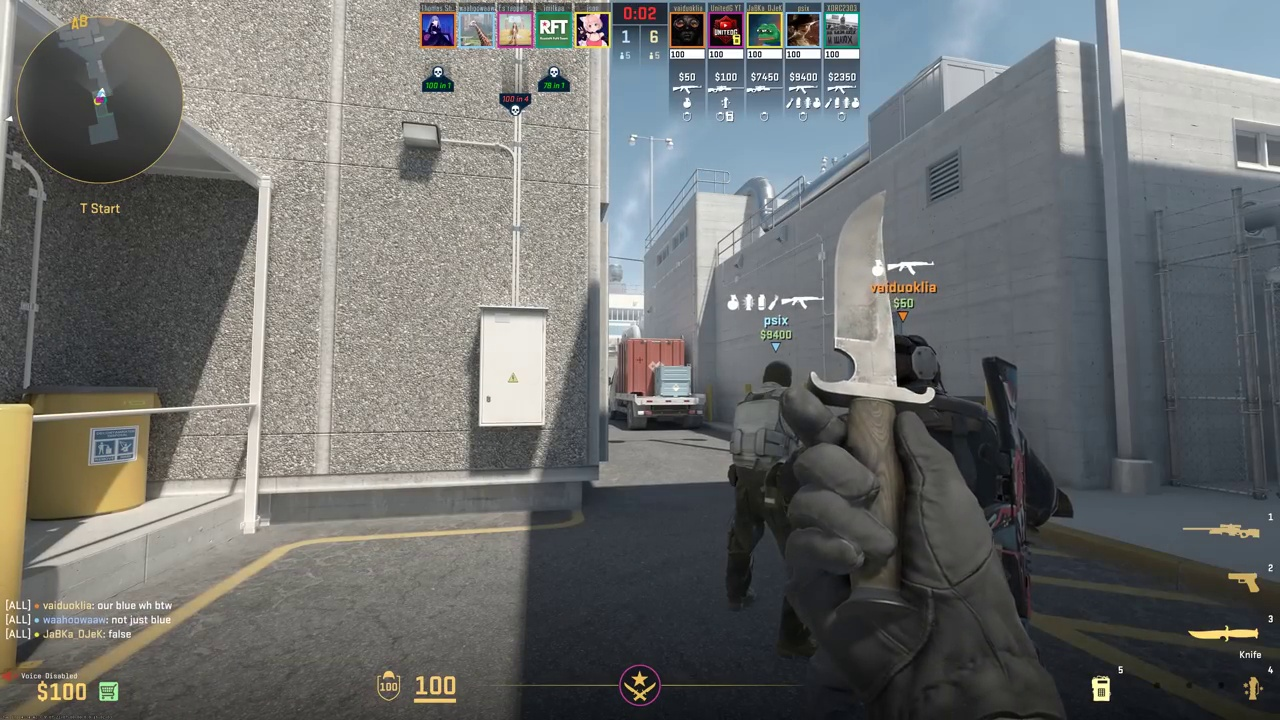Terrorist: (895, 336, 1035, 622), (723, 361, 815, 612)
